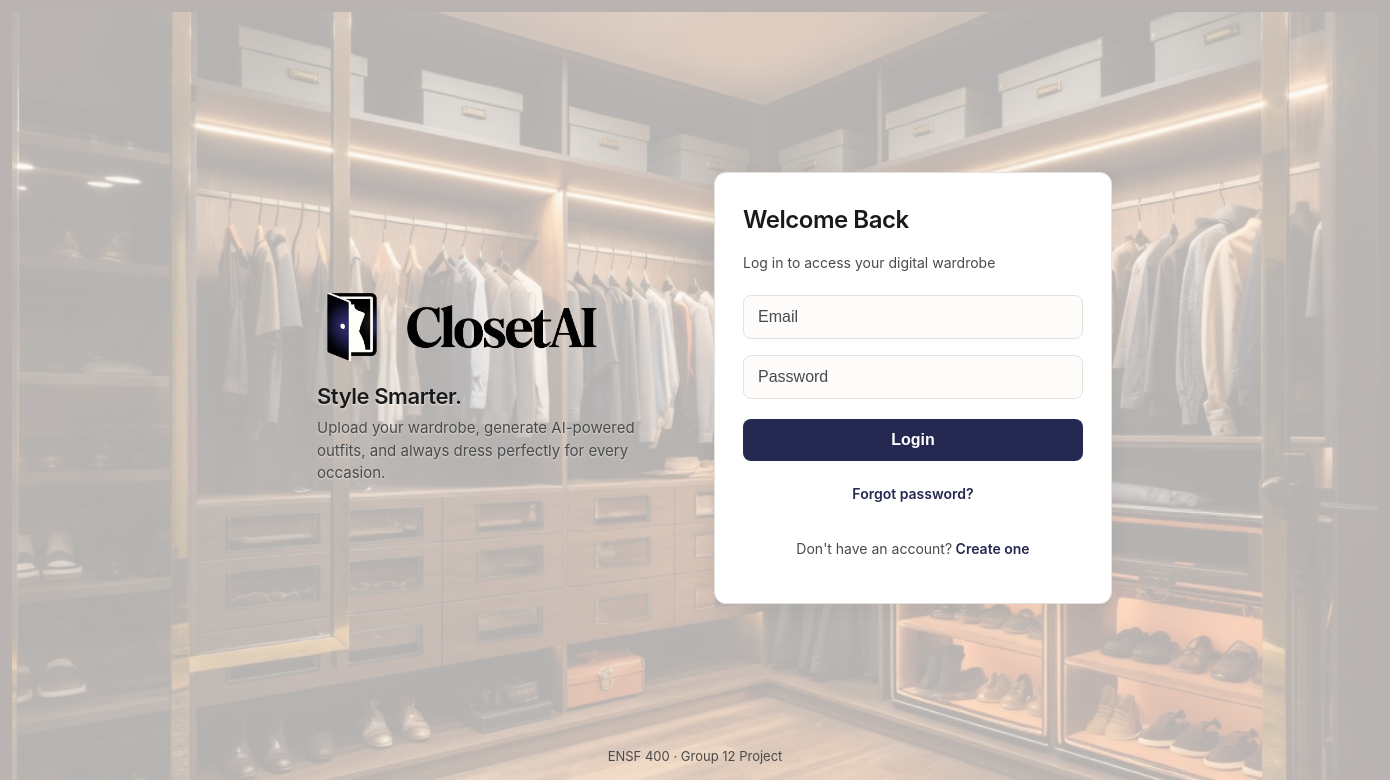
Test case: Login Page › shows error if email is empty
Click the button "Login" at (913, 440), box x1=743 y1=419 x2=1083 y2=461
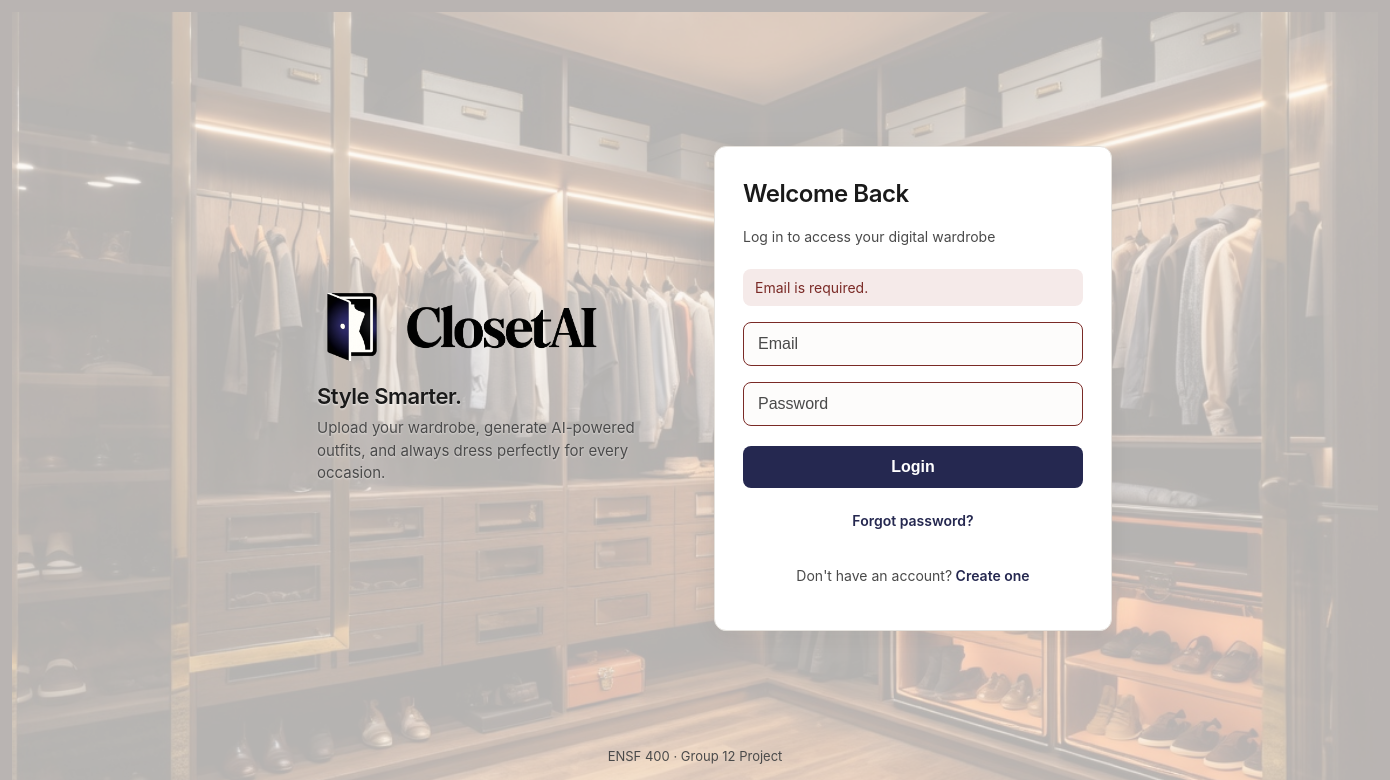
Expected: the text "Email is required." is shown, x1=743 y1=268 x2=1083 y2=306
